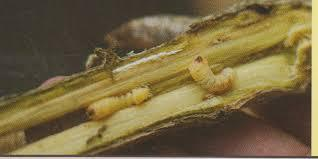Insects: (84, 86, 155, 121), (186, 51, 238, 98)
